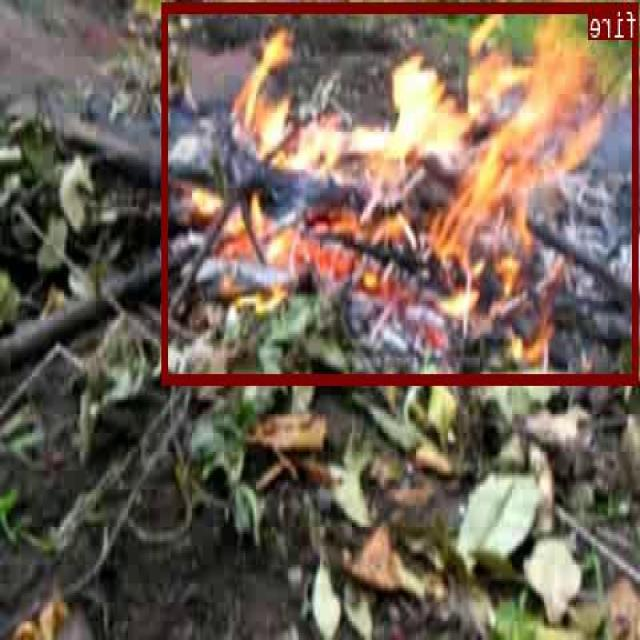fire: (163, 0, 639, 382)
